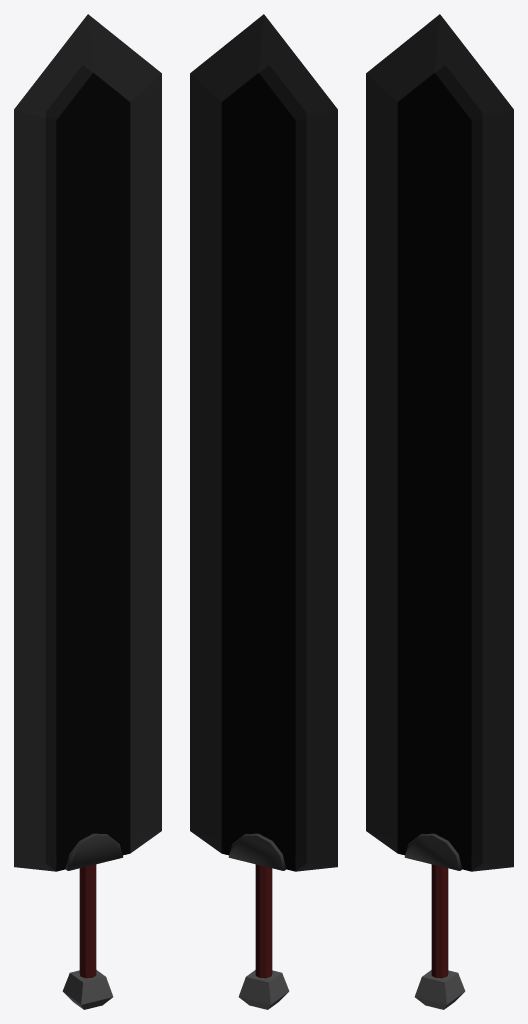
File: espadaDeGuts.fbx
The picture shows the model from 3 angles, left to right: view 1: azimuth 30°, elevation 25°; view 2: azimuth 150°, elevation 25°; view 3: azimuth 330°, elevation 25°; orthographic projection.
Visible parts, largest first — view 1: Box002; view 2: Box002; view 3: Box002.
Part boxes in pixels (<box>): Box002: <box>14,14,161,1009</box>; Box002: <box>190,14,337,1009</box>; Box002: <box>366,14,513,1009</box>.
Bounding box in the file's own units: 16 × 102 × 3.49.
